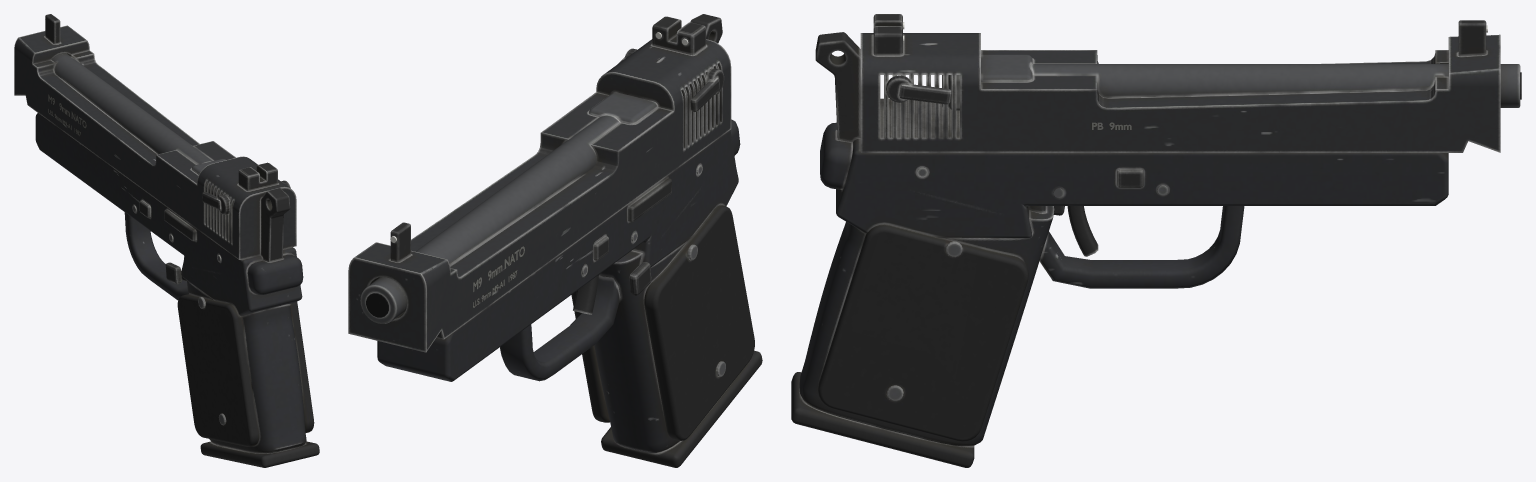
File: pistol_built.glb
3 views of the same model, side by side, from view 1: azimuth 30°, elevation 25°; view 2: azimuth 150°, elevation 25°; view 3: azimuth 270°, elevation 25° (orthographic). The views are drawn at different scales.
Visible parts, largest first — view 1: Body; view 2: Body; view 3: Body.
Part boxes in pixels (bbox=[...]): Body: bbox=[14, 14, 319, 467]; Body: bbox=[348, 14, 762, 467]; Body: bbox=[791, 14, 1521, 467].
Size of the model in its own units: 0.035 by 0.1454 by 0.2247.
Materials: 1 (1 with a texture image).
